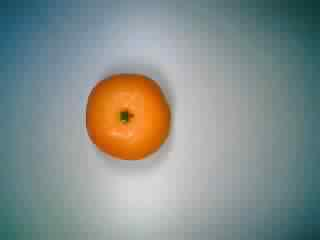orange: (81, 67, 179, 165)
